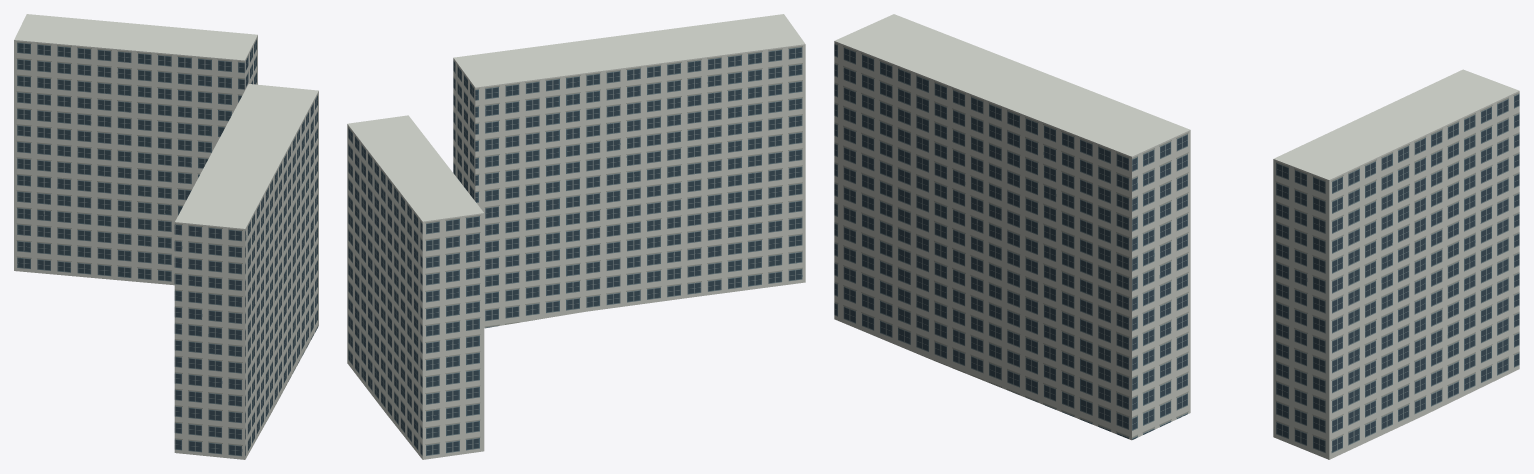
The model's file is city_8_0.glb.
3 renders of one model, left to right at view 1: azimuth 30°, elevation 25°; view 2: azimuth 150°, elevation 25°; view 3: azimuth 270°, elevation 25°, orthographic. The views are drawn at different scales.
Bounding box in the file's own units: 53.4 × 46.74 × 99.74.
1 material, 1 textured.
